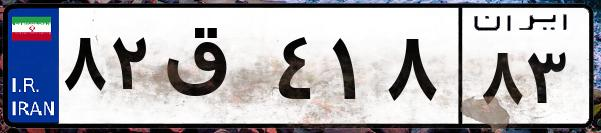1: (330, 28, 385, 110)
2: (110, 28, 158, 98)
3: (525, 38, 570, 115)
4: (270, 28, 330, 110)
8: (385, 28, 445, 110), (57, 26, 110, 100), (475, 38, 525, 113)
ق: (158, 20, 270, 120)
